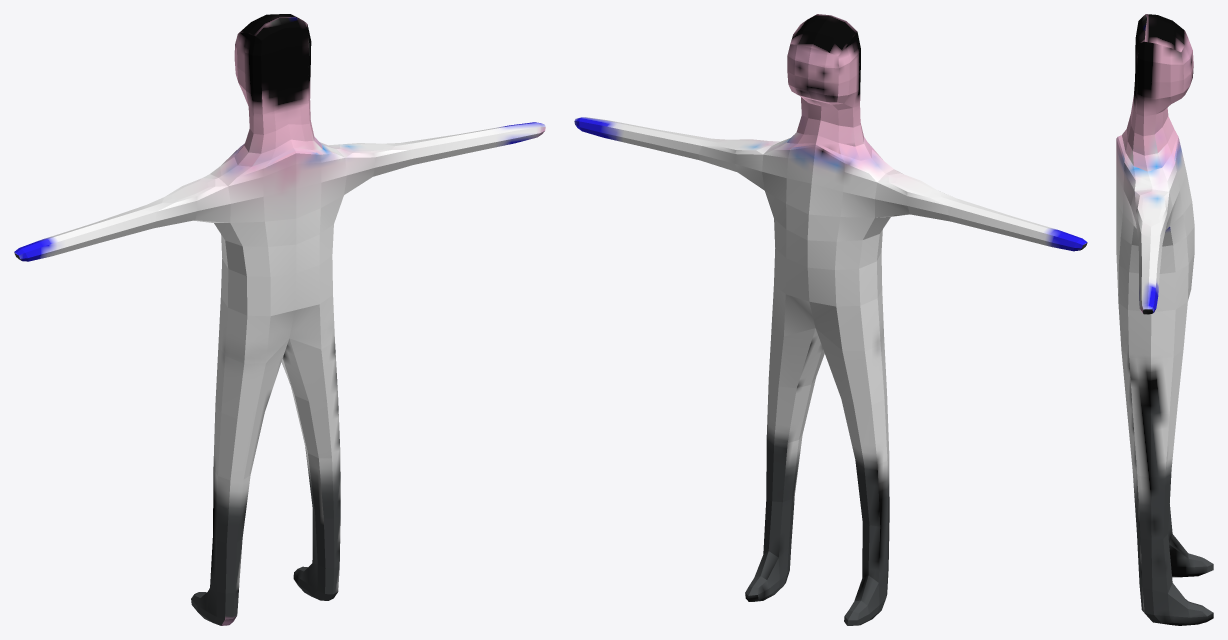
The model's file is character.obj.
The picture shows the model from 3 angles, left to right: view 1: azimuth 30°, elevation 25°; view 2: azimuth 150°, elevation 25°; view 3: azimuth 270°, elevation 25°; orthographic projection. The views are drawn at different scales.
Parts seen in each view (by area): view 1: Cube; view 2: Cube; view 3: Cube.
Boxes of the visible parts, left/top/right/bottom form: Cube: left=14, top=14, right=545, bottom=625; Cube: left=574, top=14, right=1087, bottom=625; Cube: left=1116, top=14, right=1213, bottom=625.
Size of the model in its own units: 11.02 by 11.93 by 1.82.
